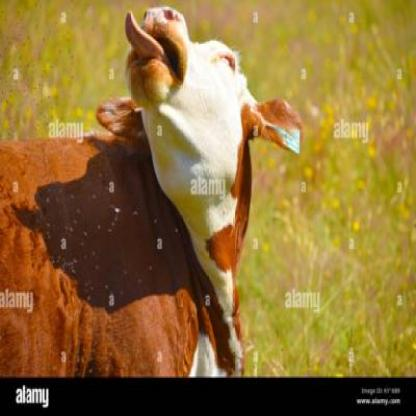lower: (140, 77, 156, 86)
mouth: (122, 4, 190, 99)
upper: (150, 15, 162, 25)
